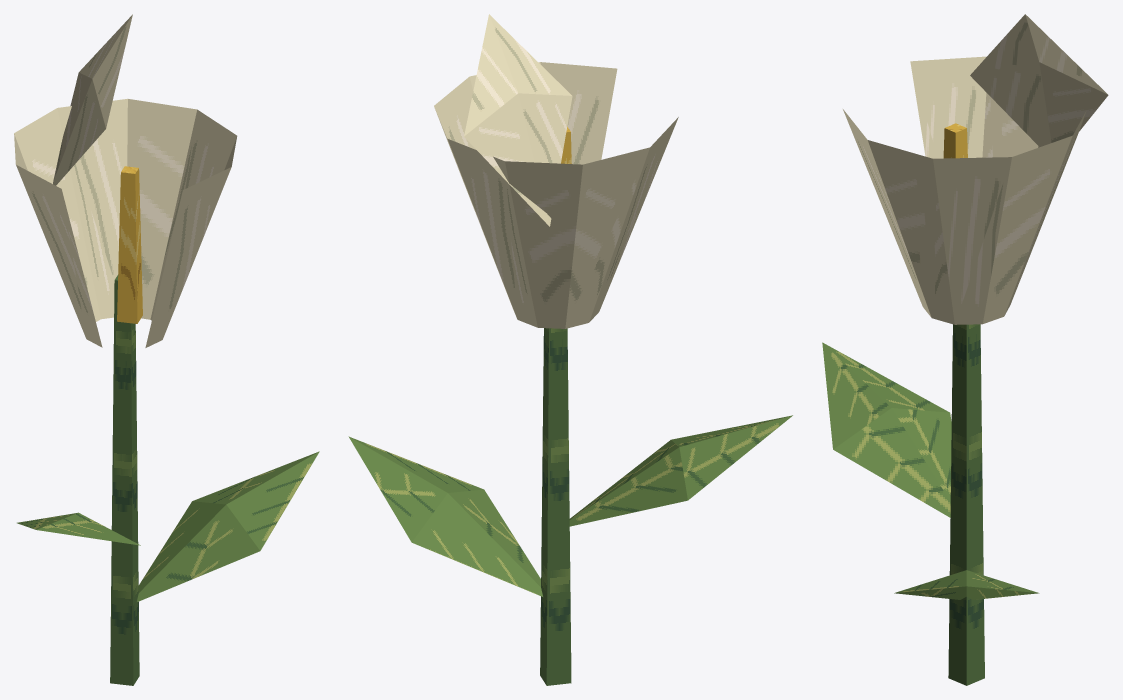
File: flor-copo-de-leite-v01.gltf
3 renders of one model, left to right at view 1: azimuth 30°, elevation 25°; view 2: azimuth 150°, elevation 25°; view 3: azimuth 270°, elevation 25°, orthographic. The views are drawn at different scales.
Parts seen in each view (by area): view 1: espata, folhas, hastes, espadice; view 2: espata, folhas, hastes; view 3: espata, folhas, hastes, espadice.
Part boxes in pixels (box(x1,y1,x2,y2)): espata: box(14, 14, 237, 347); folhas: box(17, 451, 319, 601); hastes: box(110, 274, 139, 685); espadice: box(117, 166, 142, 323); espata: box(434, 14, 678, 328); folhas: box(348, 415, 792, 596); hastes: box(540, 328, 571, 685); espata: box(843, 14, 1108, 324); folhas: box(822, 342, 1039, 599); hastes: box(948, 324, 984, 685); espadice: box(943, 123, 967, 158).
Size of the model in its own units: 0.5944 by 1.03 by 0.3916.
Materials: 1 (1 with a texture image).
